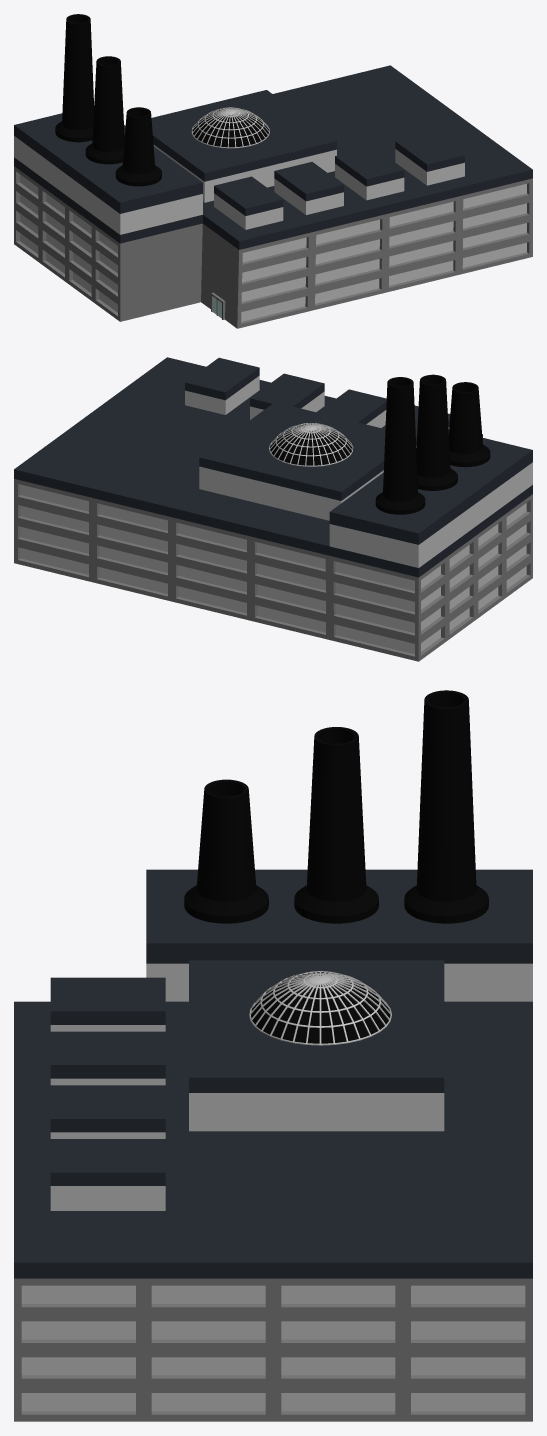
Rendered from Factory.fbx.
3 views of the same model, one above another, from view 1: azimuth 30°, elevation 25°; view 2: azimuth 150°, elevation 25°; view 3: azimuth 270°, elevation 25° (orthographic). The views are drawn at different scales.
Parts seen in each view (by area): view 1: Factory; view 2: Factory; view 3: Factory.
Part boxes in pixels (x1,y1,x2,y2): Factory: [14, 14, 532, 328]; Factory: [14, 357, 532, 661]; Factory: [14, 690, 532, 1421].
Size of the model in its own units: 27382 by 16161 by 17952.
